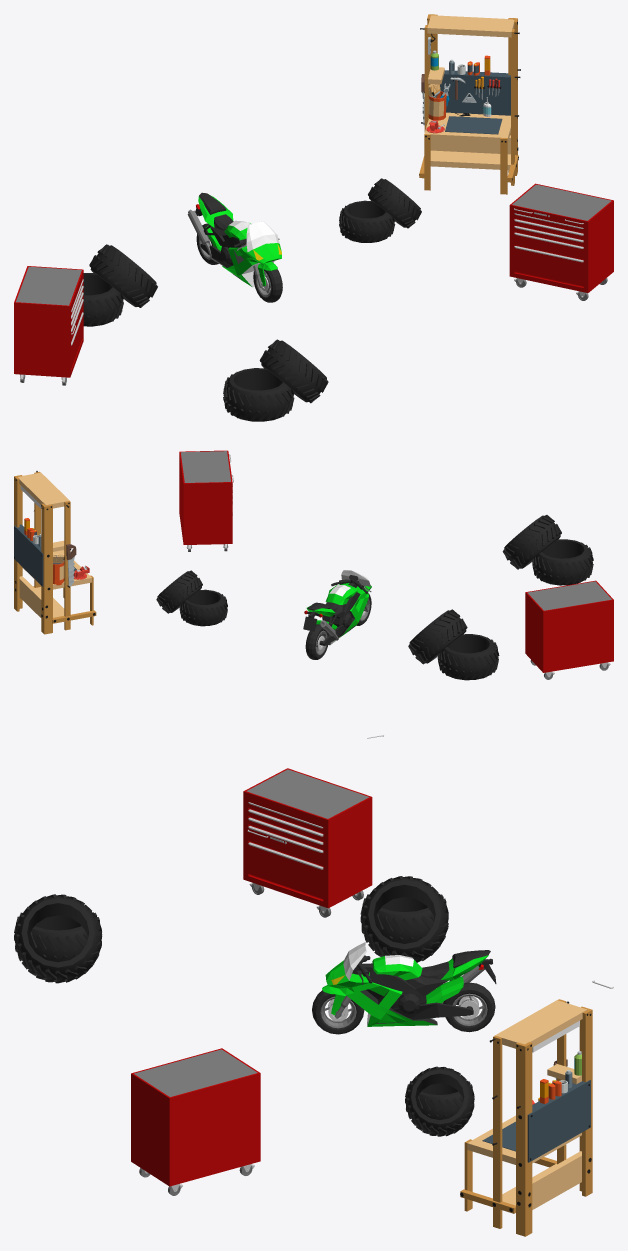
File: Motor_scene.glb
3 renders of one model, top to bottom at view 1: azimuth 30°, elevation 25°; view 2: azimuth 150°, elevation 25°; view 3: azimuth 270°, elevation 25°, orthographic. The views are drawn at different scales.
Parts seen in each view (by area): view 1: Bench.001, Mesh9 Group2 UC_091_1 Model.001, Mesh9 Group2 UC_091_1 Model, Motorcycle, Debris_Tires, Debris_Tires.001, Debris_Tires.002, Mesh45 Group7 UC_091_1 Model, Mesh44 Group7 UC_091_1 Model; view 2: Mesh9 Group2 UC_091_1 Model.001, Bench.001, Mesh9 Group2 UC_091_1 Model, Debris_Tires.001, Debris_Tires, Motorcycle, Debris_Tires.002; view 3: Bench.001, Mesh9 Group2 UC_091_1 Model, Motorcycle, Mesh9 Group2 UC_091_1 Model.001, Debris_Tires, Debris_Tires.001, Debris_Tires.002, Mesh45 Group7 UC_091_1 Model.001, Mesh44 Group7 UC_091_1 Model.001.
Boxes of the visible parts, box(x1,y1,x2,y2) form: Bench.001: box(419, 14, 520, 194); Mesh9 Group2 UC_091_1 Model.001: box(14, 266, 83, 377); Mesh9 Group2 UC_091_1 Model: box(509, 183, 613, 292); Motorcycle: box(187, 192, 282, 302); Debris_Tires: box(223, 339, 328, 421); Debris_Tires.001: box(83, 244, 157, 326); Debris_Tires.002: box(339, 178, 421, 242); Mesh45 Group7 UC_091_1 Model: box(514, 247, 583, 286); Mesh44 Group7 UC_091_1 Model: box(514, 234, 583, 260); Mesh9 Group2 UC_091_1 Model.001: box(525, 580, 613, 672); Bench.001: box(14, 471, 96, 634); Mesh9 Group2 UC_091_1 Model: box(179, 450, 232, 544); Debris_Tires.001: box(408, 609, 499, 680); Debris_Tires: box(502, 515, 593, 585); Motorcycle: box(303, 570, 371, 659); Debris_Tires.002: box(156, 570, 227, 626); Bench.001: box(460, 999, 592, 1236); Mesh9 Group2 UC_091_1 Model: box(131, 1048, 260, 1186); Motorcycle: box(312, 942, 496, 1034); Mesh9 Group2 UC_091_1 Model.001: box(243, 768, 372, 908); Debris_Tires: box(14, 894, 102, 983); Debris_Tires.001: box(360, 876, 448, 962); Debris_Tires.002: box(405, 1066, 474, 1136); Mesh45 Group7 UC_091_1 Model.001: box(248, 844, 323, 899); Mesh44 Group7 UC_091_1 Model.001: box(248, 828, 323, 866).
Size of the model in its own units: 11.12 by 3.02 by 7.78.
32 materials, 1 textured.
